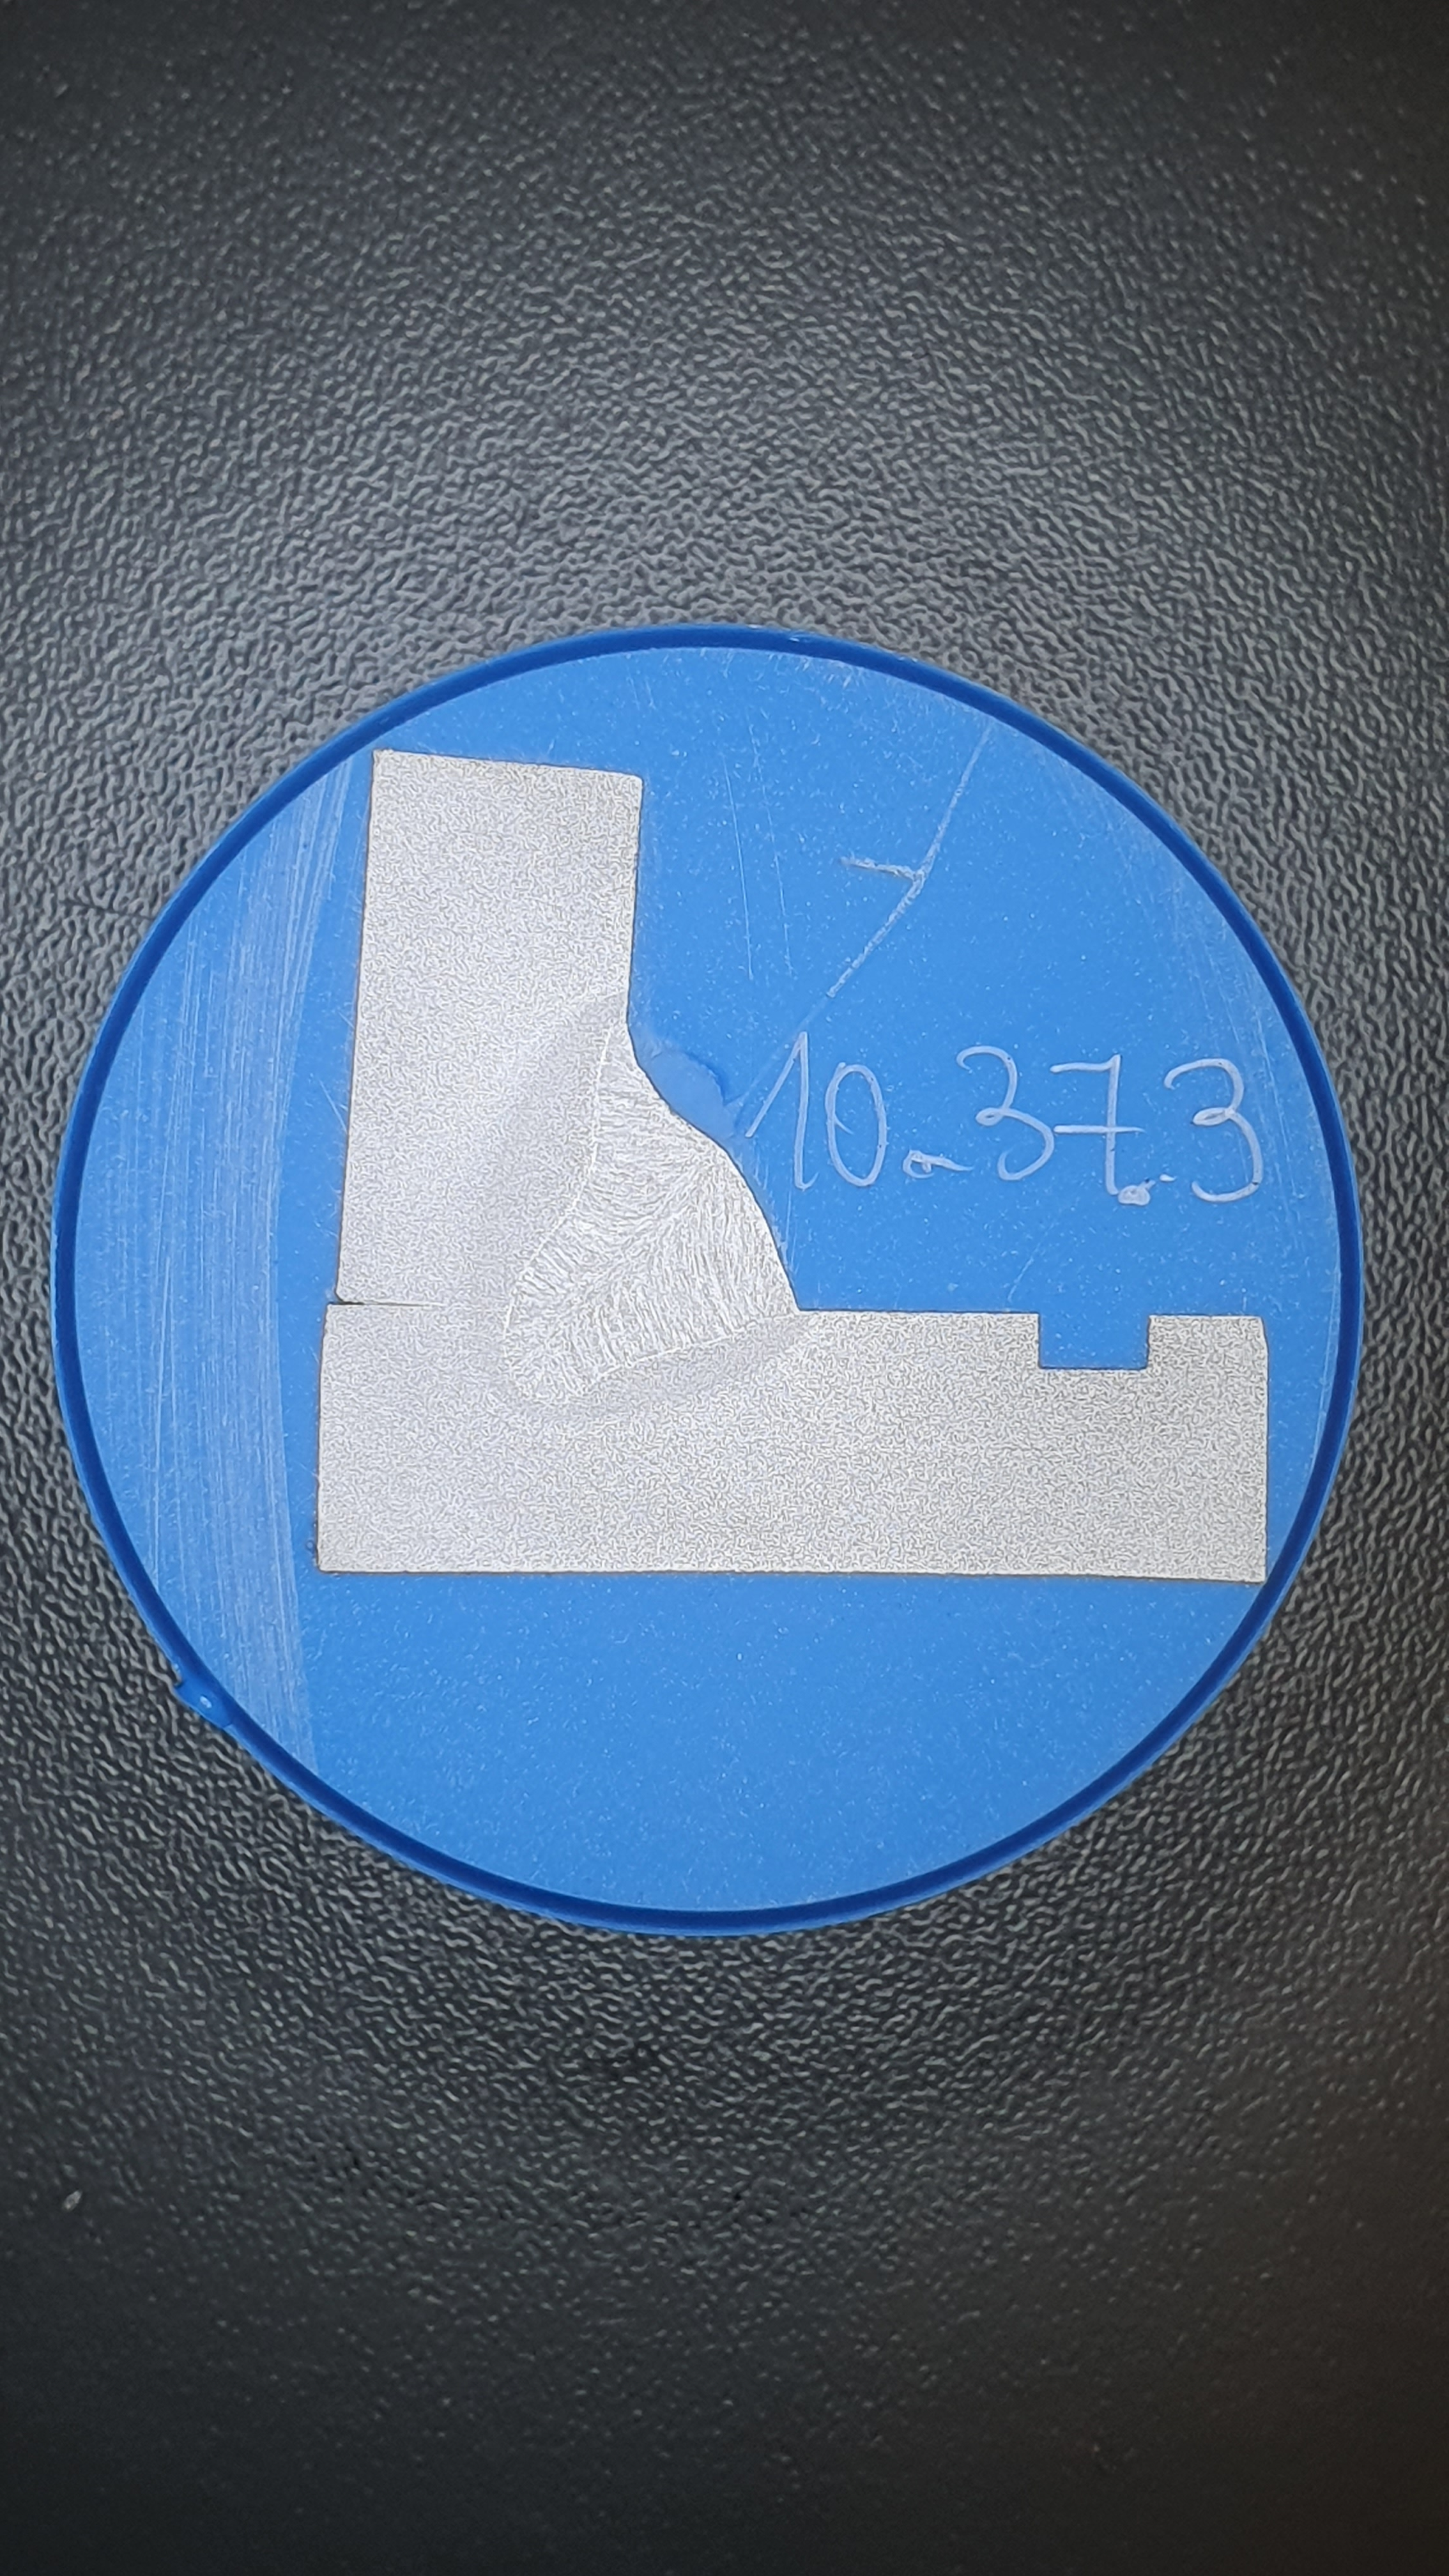Fusion: (503, 1020, 797, 1399)
Hintergrund: (73, 646, 1345, 1912)
Metall: (316, 748, 1269, 1583)
Nebenbereich: (455, 988, 815, 1422)
